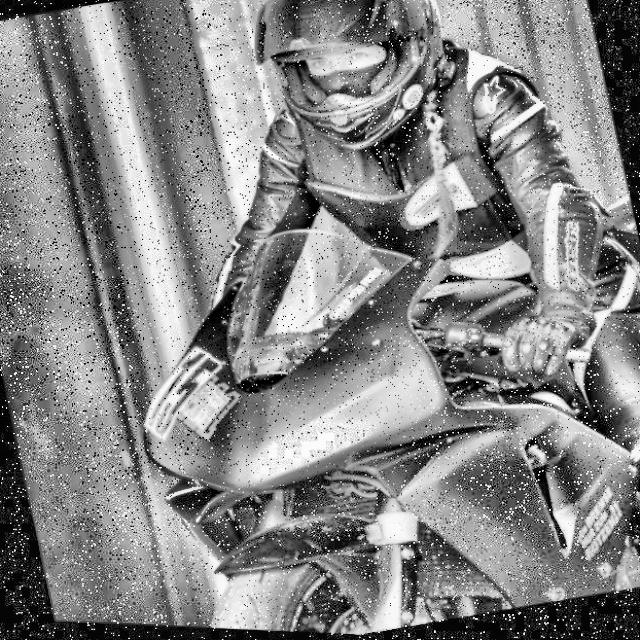Helmet: (231, 0, 474, 182)
